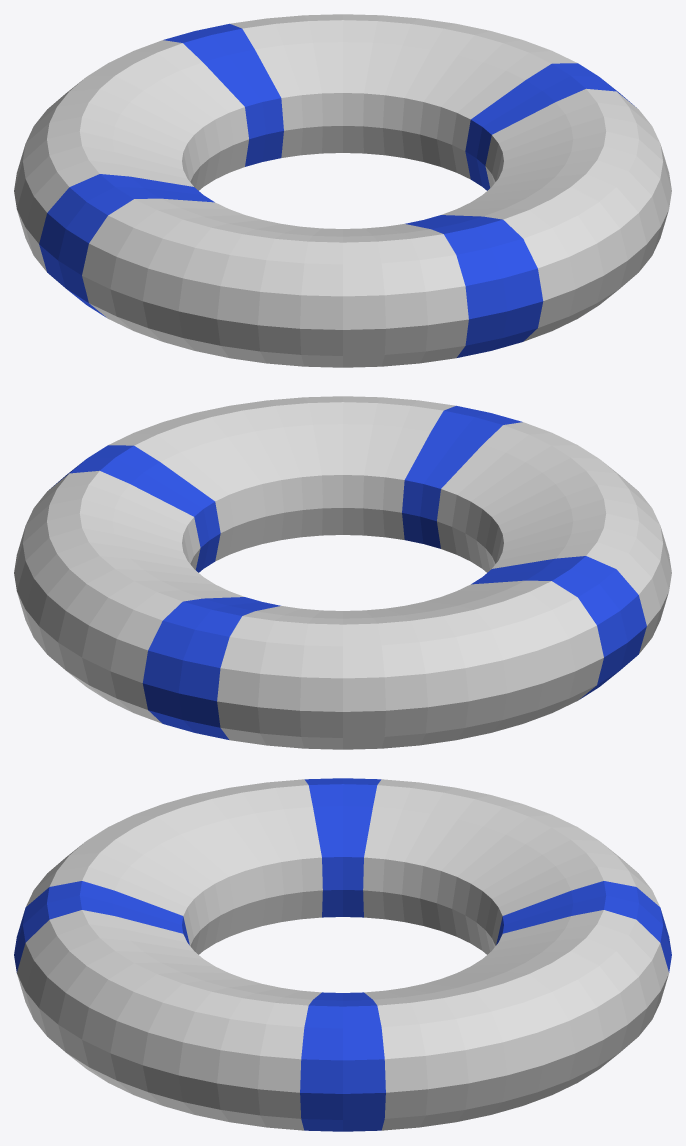
3 views of the same model, one above another, from view 1: azimuth 30°, elevation 25°; view 2: azimuth 150°, elevation 25°; view 3: azimuth 270°, elevation 25° (orthographic).
Visible parts, largest first — view 1: Torus; view 2: Torus; view 3: Torus.
Part boxes in pixels (box(x1,y1,x2,y2)): Torus: box(14, 14, 671, 367); Torus: box(14, 396, 671, 749); Torus: box(14, 778, 671, 1131).
Bounding box in the file's own units: 250 × 50 × 250.
